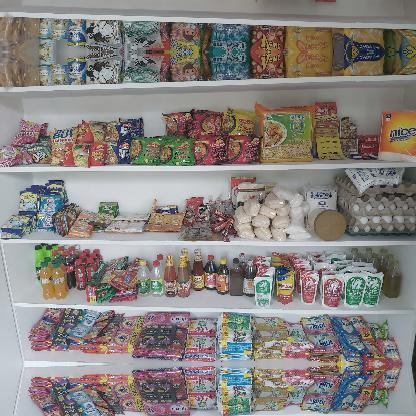Lady-s-Choice: (308, 207, 346, 240)
